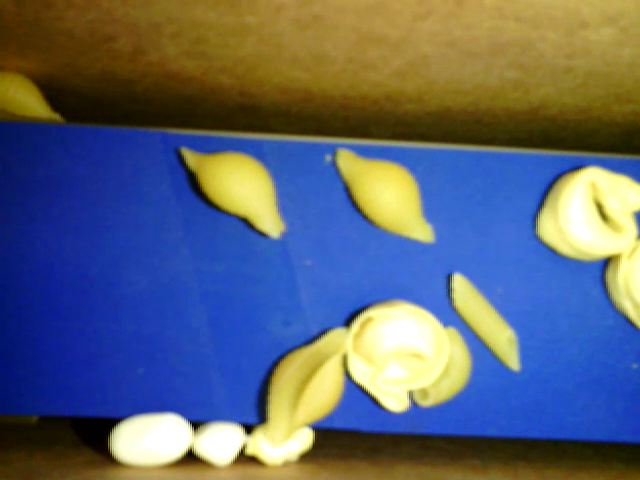elbow: (414, 323, 474, 409)
penne: (453, 273, 521, 374)
shell: (265, 323, 351, 445), (178, 146, 288, 240), (333, 146, 436, 244), (1, 65, 65, 124)
tortellini: (342, 299, 449, 414), (527, 156, 638, 261), (607, 240, 638, 319)
